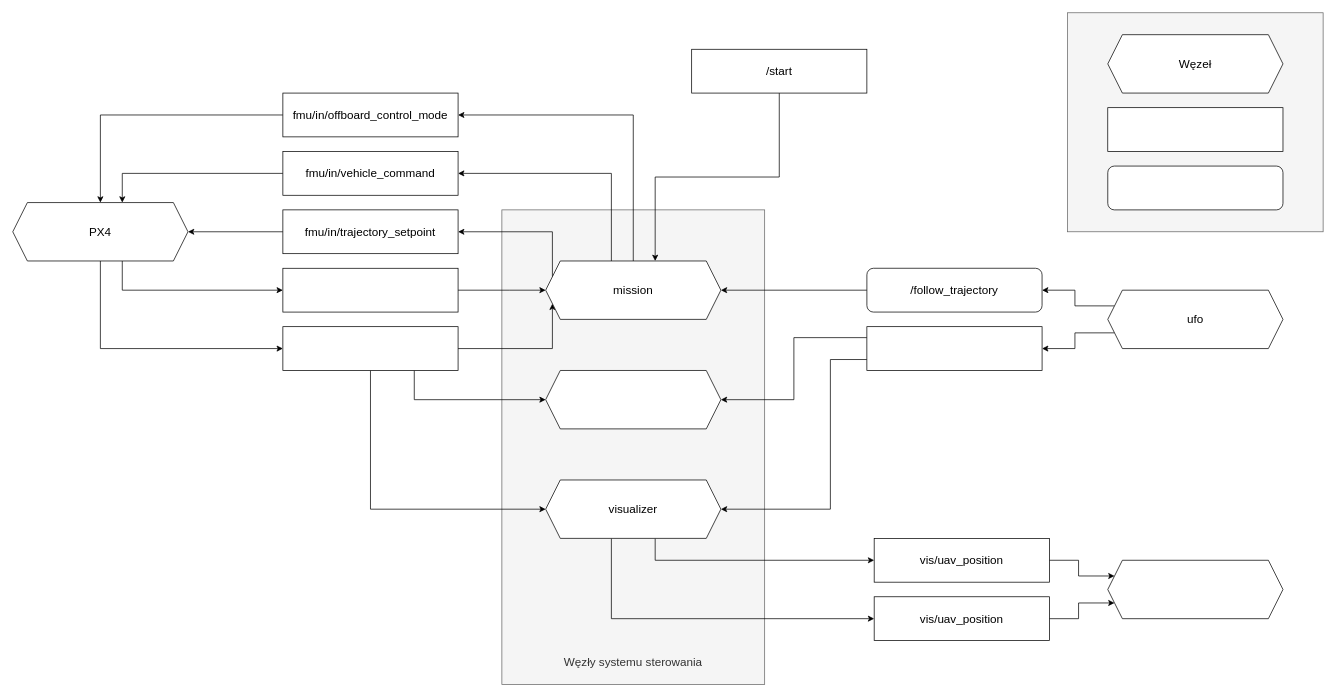
The diagram is 1336 pixels wide and 697 high, and some of its shapes have lost their labels. Here are the shapes that lost their labels. From the top down, the box of each, then its label:
(1107, 107, 1283, 151): Topic
(1107, 165, 1283, 210): Akcja
(282, 268, 458, 312): fmu/out/vehicle_status
(282, 326, 458, 370): fmu/out/vehicle_local_position
(866, 326, 1042, 370): /follow_trajectory/_action/feedback
(545, 370, 721, 429): position_logger
(1107, 560, 1283, 619): RViz
